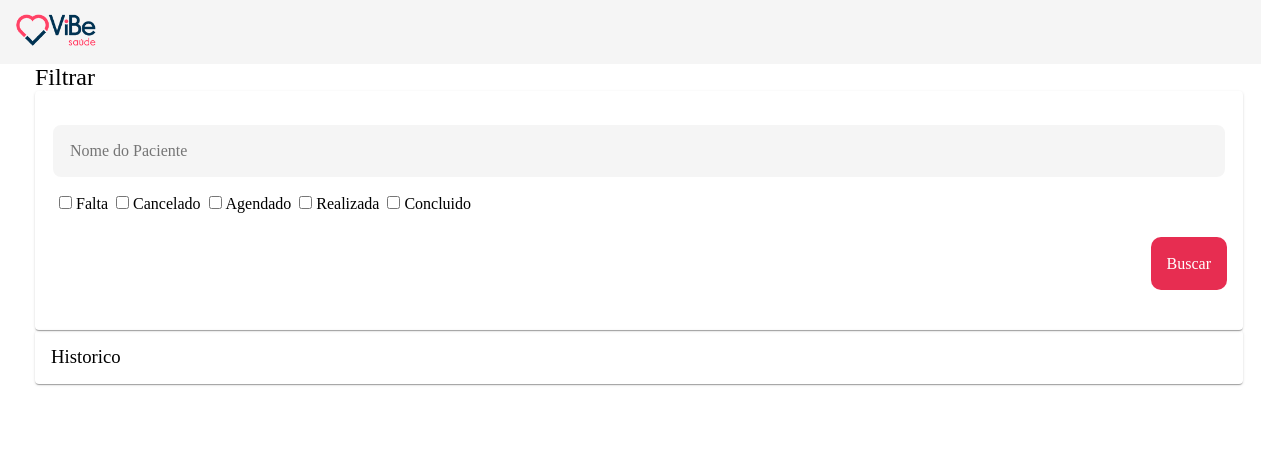
Test case: Doctor Appointment › Should filter with name
The width and height of the screenshot is (1261, 467).
Type "henrique" into the field with placeholder "Nome do Paciente" at (639,151), box [51,123,1227,179]
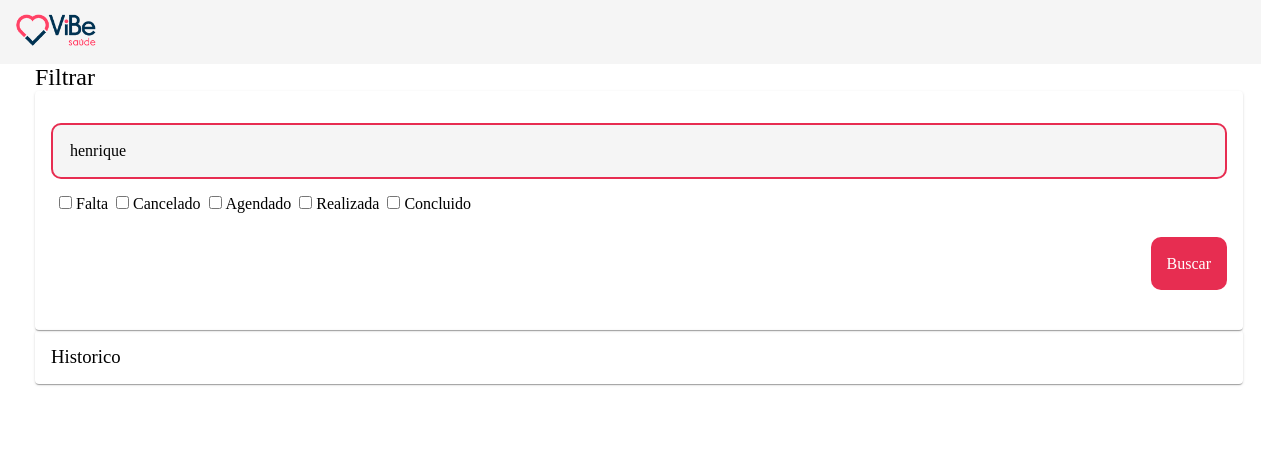
Click the button "Buscar" at (1189,264), box [1151,237,1227,290]
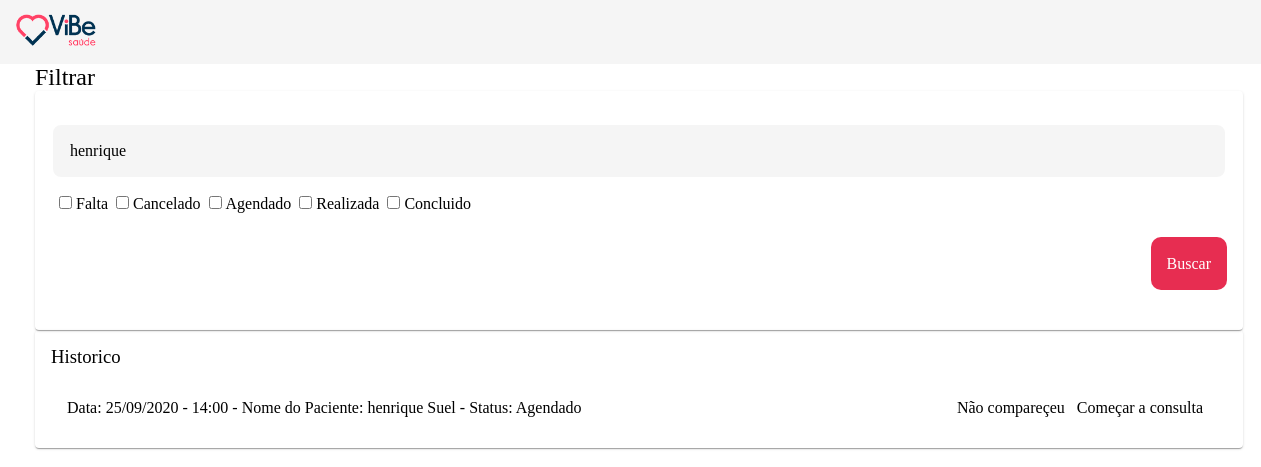
Check: the text "henrique" is shown, box [67,399,582,416]
